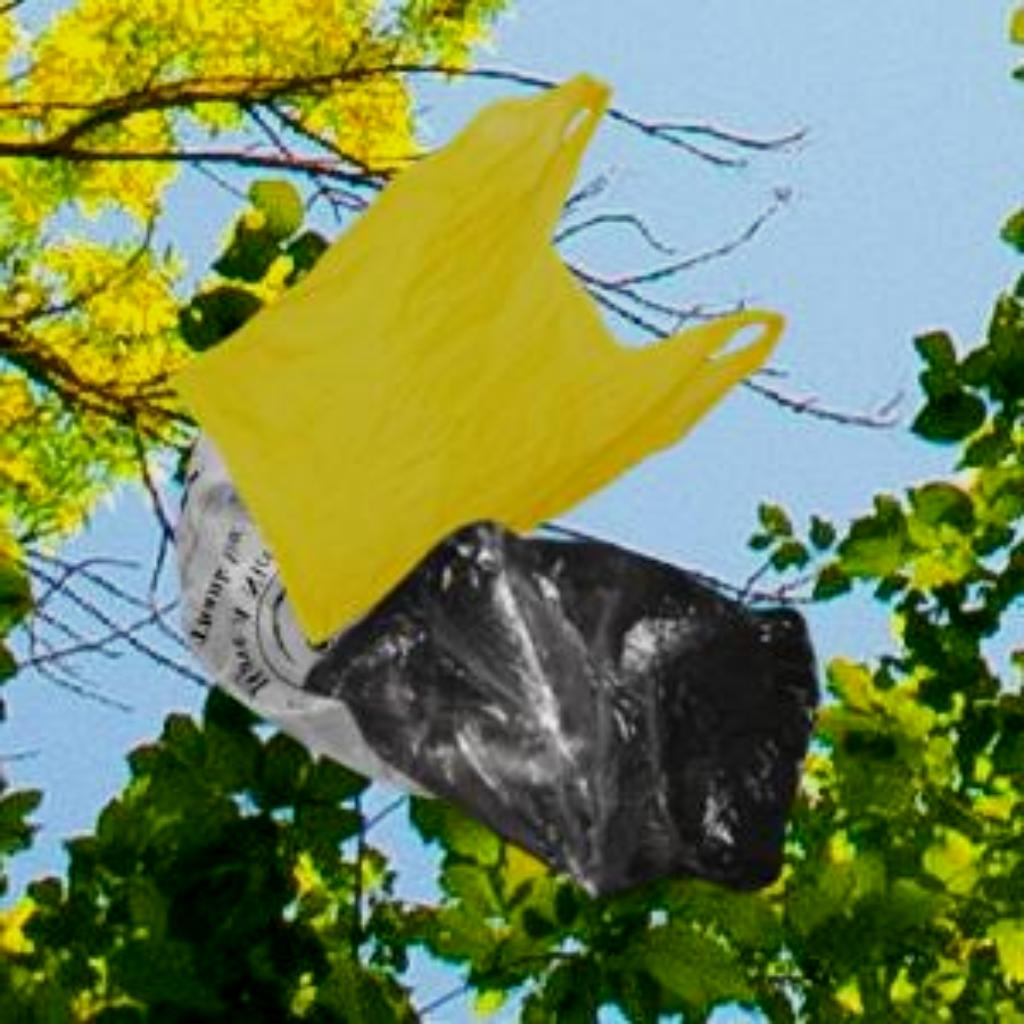garbage: (169, 60, 777, 643), (283, 517, 833, 886), (147, 452, 341, 732)
